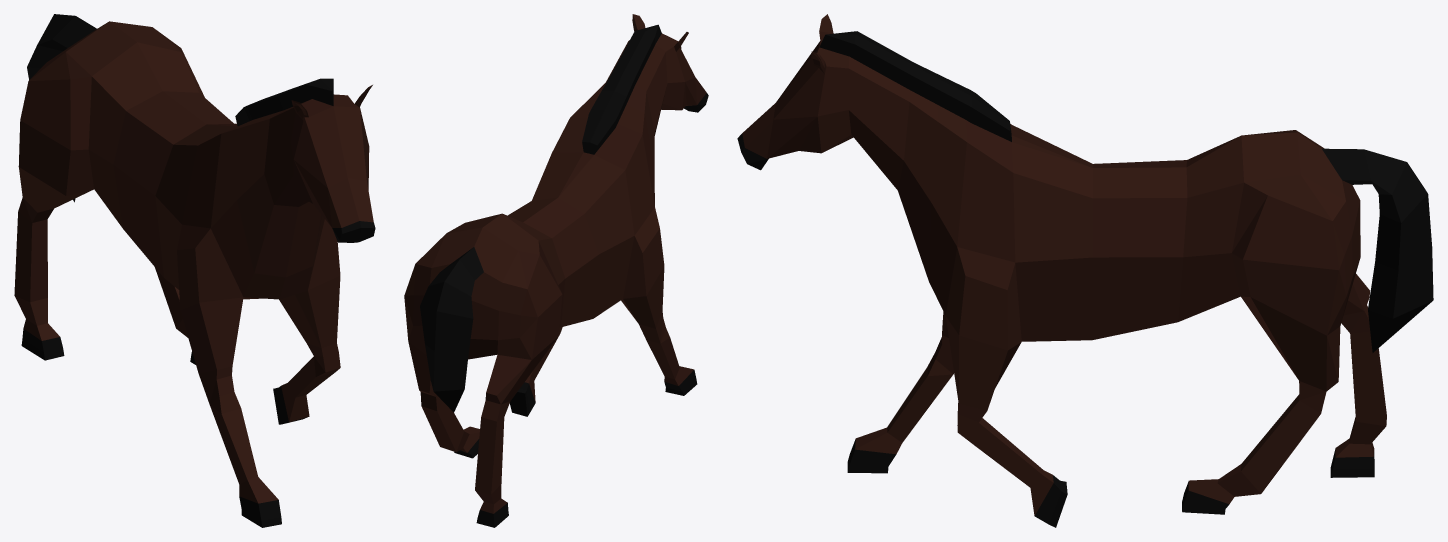
File: Horse_000019.obj
The picture shows the model from 3 angles, left to right: view 1: azimuth 30°, elevation 25°; view 2: azimuth 150°, elevation 25°; view 3: azimuth 270°, elevation 25°; orthographic projection. The views are drawn at different scales.
Visible parts, largest first — view 1: Horse_Cylinder; view 2: Horse_Cylinder; view 3: Horse_Cylinder.
Part boxes in pixels (x1,y1,x2,y2): Horse_Cylinder: (14, 14, 375, 527); Horse_Cylinder: (404, 14, 708, 527); Horse_Cylinder: (737, 14, 1433, 527).
Size of the model in its own units: 2.56 by 6.67 by 9.14.
